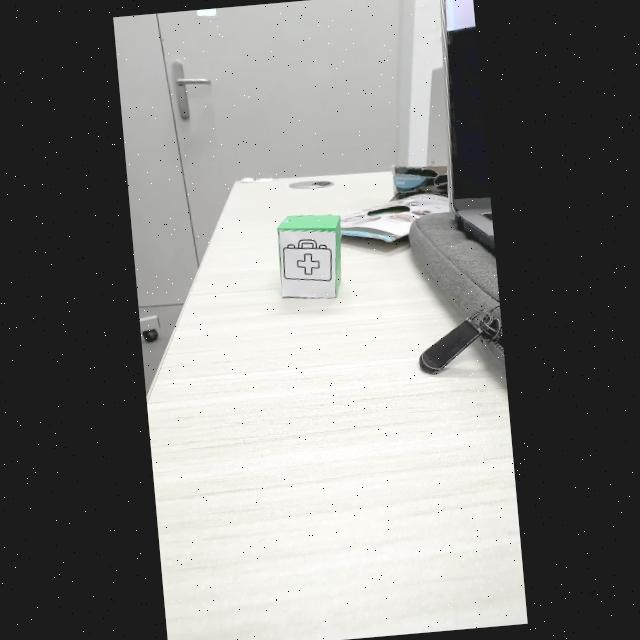Medkit: (282, 239, 333, 284)
